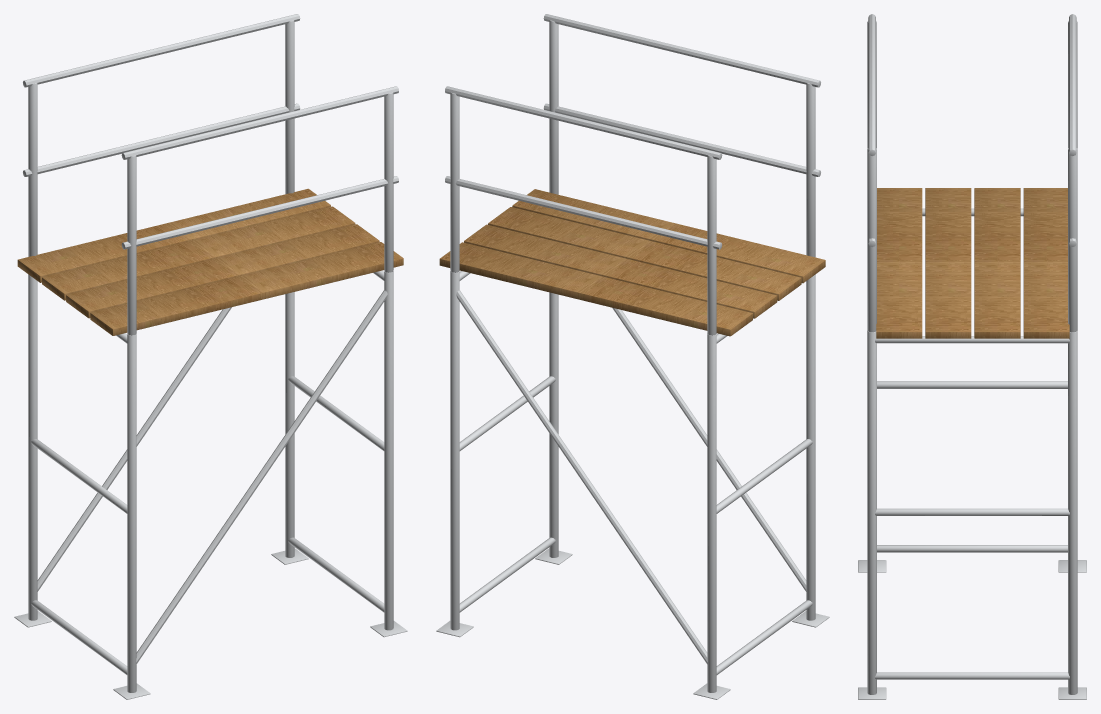
The model's file is SER-AND-001_lod1.glb.
3 renders of one model, left to right at view 1: azimuth 30°, elevation 25°; view 2: azimuth 150°, elevation 25°; view 3: azimuth 270°, elevation 25°, orthographic.
Visible parts, largest first — view 1: SER-AND-001_prancha0, SER-AND-001_prancha1, SER-AND-001_prancha2, SER-AND-001_prancha3, SER-AND-001, SER-AND-001_m0a, SER-AND-001_m1a, SER-AND-001_m0b, SER-AND-001_diag-1, SER-AND-001_m1b, SER-AND-001_diag1, SER-AND-001_gc1_3.0 (+7 smaller); view 2: SER-AND-001_prancha3, SER-AND-001_prancha1, SER-AND-001_prancha2, SER-AND-001_prancha0, SER-AND-001, SER-AND-001_m0b, SER-AND-001_m1b, SER-AND-001_m0a, SER-AND-001_diag1, SER-AND-001_m1a, SER-AND-001_diag-1, SER-AND-001_gc-1_3.0 (+7 smaller); view 3: SER-AND-001, SER-AND-001_prancha1, SER-AND-001_prancha2, SER-AND-001_prancha0, SER-AND-001_prancha3, SER-AND-001_m1a, SER-AND-001_m1b, SER-AND-001_gcm-10.75, SER-AND-001_gcm10.75, SER-AND-001_gc1_3.0, SER-AND-001_gc-1_3.0, SER-AND-001_gcm1-0.75 (+1 smaller).
Boxes of the visible parts, x1,y1,x2,y2 form: SER-AND-001_prancha0: [90, 242, 403, 335]; SER-AND-001_prancha1: [66, 224, 379, 318]; SER-AND-001_prancha2: [42, 206, 355, 300]; SER-AND-001_prancha3: [17, 188, 330, 282]; SER-AND-001: [31, 270, 384, 674]; SER-AND-001_m0a: [127, 333, 136, 692]; SER-AND-001_m1a: [384, 271, 393, 630]; SER-AND-001_m0b: [28, 274, 37, 620]; SER-AND-001_diag-1: [136, 290, 387, 663]; SER-AND-001_m1b: [285, 292, 294, 557]; SER-AND-001_diag1: [37, 307, 231, 591]; SER-AND-001_gc1_3.0: [23, 14, 300, 87]; SER-AND-001_prancha3: [439, 242, 752, 336]; SER-AND-001_prancha1: [488, 207, 801, 300]; SER-AND-001_prancha2: [464, 224, 777, 318]; SER-AND-001_prancha0: [512, 189, 825, 283]; SER-AND-001: [459, 271, 812, 674]; SER-AND-001_m0b: [707, 333, 716, 692]; SER-AND-001_m1b: [450, 271, 459, 630]; SER-AND-001_m0a: [806, 274, 815, 620]; SER-AND-001_diag1: [456, 290, 707, 664]; SER-AND-001_m1a: [549, 292, 558, 557]; SER-AND-001_diag-1: [612, 308, 806, 591]; SER-AND-001_gc-1_3.0: [543, 14, 820, 87]; SER-AND-001: [875, 208, 1069, 679]; SER-AND-001_prancha1: [925, 188, 971, 338]; SER-AND-001_prancha2: [974, 188, 1020, 338]; SER-AND-001_prancha0: [876, 188, 922, 338]; SER-AND-001_prancha3: [1023, 188, 1069, 338]; SER-AND-001_m1a: [867, 331, 876, 694]; SER-AND-001_m1b: [1068, 331, 1077, 694]; SER-AND-001_gcm-10.75: [867, 148, 876, 332]; SER-AND-001_gcm10.75: [1068, 148, 1077, 332]; SER-AND-001_gc1_3.0: [1069, 14, 1076, 155]; SER-AND-001_gc-1_3.0: [868, 14, 875, 155]; SER-AND-001_gcm1-0.75: [1068, 21, 1077, 148].
Bounding box in the file's own units: 1.7 × 3.02 × 1.14.
Materials: 2 (1 with a texture image).
